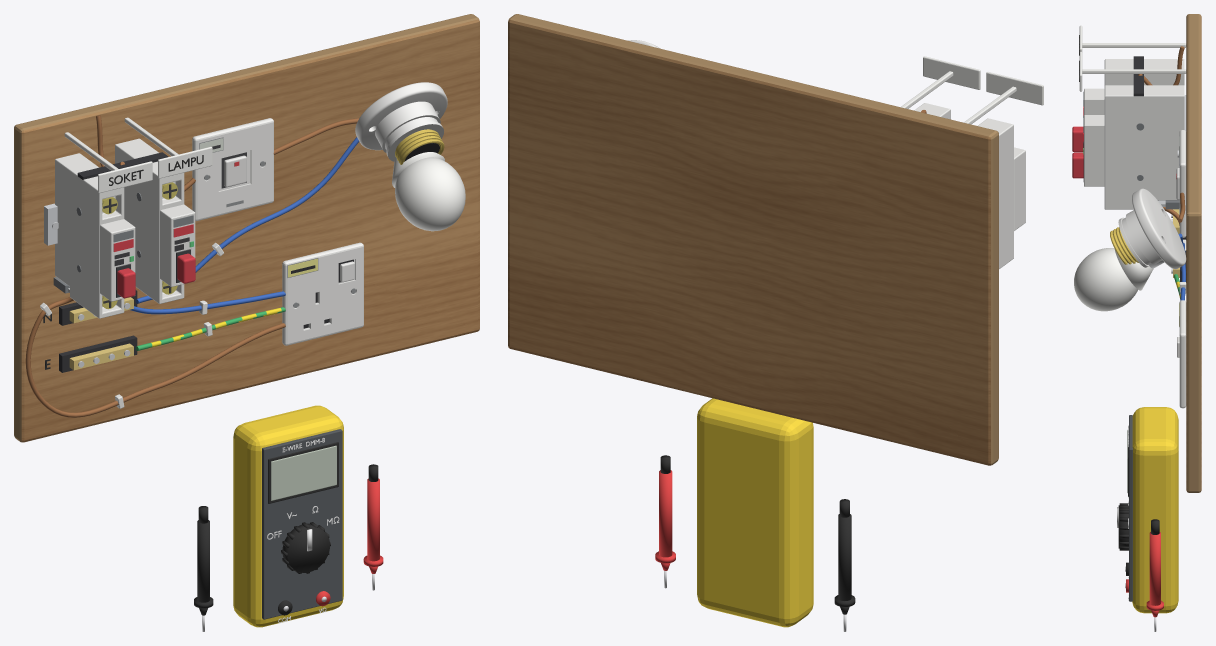
Rendered from PapanUjian.glb.
3 views of the same model, side by side, from view 1: azimuth 30°, elevation 25°; view 2: azimuth 150°, elevation 25°; view 3: azimuth 270°, elevation 25° (orthographic). The views are drawn at different scales.
Parts seen in each view (by area): view 1: Papan6, BadanMeter, MCB_Soket, BadanMeterHolster, MCB_Lampu, Soket, Suis, PemegangLampu, Mentol, Wayar_SoketL, DialMeter, BarBumi (+8 smaller); view 2: Papan6, BadanMeterHolster, MCB_Soket, KuarHitam, KuarMerah, LabelLampu, LabelSoket; view 3: MCB_Lampu, BadanMeterHolster, Papan6, PemegangLampu, Mentol, MCB_Soket, KuarMerah, Soket, BadanMeter, Suis, LabelLampu, LabelSoket (+5 smaller).
Part boxes in pixels (bbox=[...]): Papan6: bbox=[14, 14, 479, 442]; BadanMeter: bbox=[262, 429, 342, 619]; MCB_Soket: bbox=[53, 153, 135, 318]; BadanMeterHolster: bbox=[233, 405, 343, 627]; MCB_Lampu: bbox=[115, 138, 195, 303]; Soket: bbox=[282, 242, 363, 345]; Suis: bbox=[192, 118, 273, 221]; PemegangLampu: bbox=[355, 82, 447, 164]; Mentol: bbox=[392, 152, 465, 231]; Wayar_SoketL: bbox=[25, 297, 285, 417]; DialMeter: bbox=[281, 522, 330, 573]; BarBumi: bbox=[59, 335, 137, 372]; Papan6: bbox=[508, 14, 998, 465]; BadanMeterHolster: bbox=[697, 398, 813, 627]; MCB_Soket: bbox=[978, 118, 1025, 268]; KuarHitam: bbox=[834, 499, 855, 631]; KuarMerah: bbox=[655, 455, 675, 588]; LabelLampu: bbox=[900, 56, 980, 108]; LabelSoket: bbox=[964, 72, 1043, 124]; MCB_Lampu: bbox=[1083, 85, 1184, 209]; BadanMeterHolster: bbox=[1132, 407, 1178, 613]; Papan6: bbox=[1186, 14, 1201, 492]; PemegangLampu: bbox=[1110, 188, 1186, 269]; Mentol: bbox=[1074, 248, 1164, 311]; MCB_Soket: bbox=[1083, 59, 1184, 117]; KuarMerah: bbox=[1146, 519, 1163, 631]; Soket: bbox=[1177, 300, 1186, 408]; BadanMeter: bbox=[1127, 415, 1132, 601]; Suis: bbox=[1176, 130, 1186, 237]; LabelLampu: bbox=[1079, 52, 1186, 91]; LabelSoket: bbox=[1079, 25, 1186, 52].
Bounding box in the file's own units: 0.46 × 0.5075 × 0.1255.
43 materials, 1 textured.
